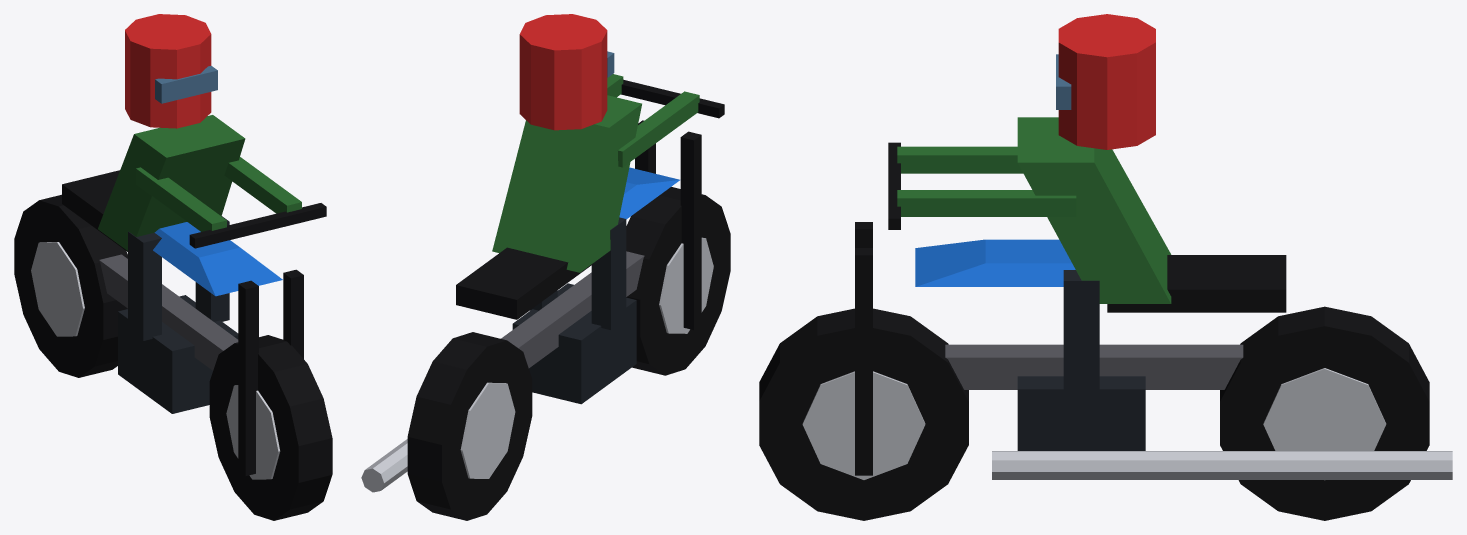
The model's file is bike.obj.
3 renders of one model, left to right at view 1: azimuth 30°, elevation 25°; view 2: azimuth 150°, elevation 25°; view 3: azimuth 270°, elevation 25°, orthographic. The views are drawn at different scales.
Parts seen in each view (by area): view 1: tire, torso, helmet, engine, rim, tank, frame, fork_l, leg_l, arm_l, handlebar, seat (+4 smaller); view 2: tire, torso, helmet, engine, rim, seat, fork_l, frame, leg_l, arm_l, tank, exhaust (+2 smaller); view 3: tire, rim, torso, exhaust, helmet, frame, engine, seat, tank, arm_r, leg_r, fork_r (+2 smaller).
Boxes of the visible parts, bbox=[...] form: tire: bbox=[14, 194, 332, 520]; torso: bbox=[98, 115, 245, 250]; helmet: bbox=[125, 14, 211, 128]; engine: bbox=[118, 295, 238, 413]; rim: bbox=[31, 242, 280, 479]; tank: bbox=[153, 222, 282, 296]; frame: bbox=[99, 254, 238, 370]; fork_l: bbox=[238, 280, 258, 475]; leg_l: bbox=[128, 231, 161, 340]; arm_l: bbox=[136, 167, 226, 231]; handlebar: bbox=[189, 203, 326, 248]; seat: bbox=[62, 170, 127, 251]; tire: bbox=[407, 187, 730, 520]; torso: bbox=[492, 95, 641, 272]; helmet: bbox=[519, 14, 607, 130]; engine: bbox=[512, 283, 636, 404]; rim: bbox=[460, 237, 713, 478]; seat: bbox=[456, 247, 593, 319]; fork_l: bbox=[680, 131, 701, 329]; frame: bbox=[501, 251, 644, 368]; leg_l: bbox=[591, 217, 626, 329]; arm_l: bbox=[618, 91, 699, 167]; tank: bbox=[619, 167, 679, 219]; exhaust: bbox=[361, 439, 407, 492]; tire: bbox=[759, 306, 1429, 520]; rim: bbox=[802, 368, 1386, 480]; torso: bbox=[1017, 117, 1171, 303]; exhaust: bbox=[992, 451, 1452, 479]; helmet: bbox=[1058, 14, 1155, 149]; frame: bbox=[945, 344, 1243, 389]; engine: bbox=[1017, 376, 1145, 450]; seat: bbox=[1107, 255, 1286, 312]; tank: bbox=[915, 239, 1075, 286]; arm_r: bbox=[897, 190, 1076, 216]; leg_r: bbox=[1063, 270, 1099, 396]; fork_r: bbox=[855, 248, 872, 475].
Bounding box in the file's own units: 0.7 × 2.05 × 2.71.
